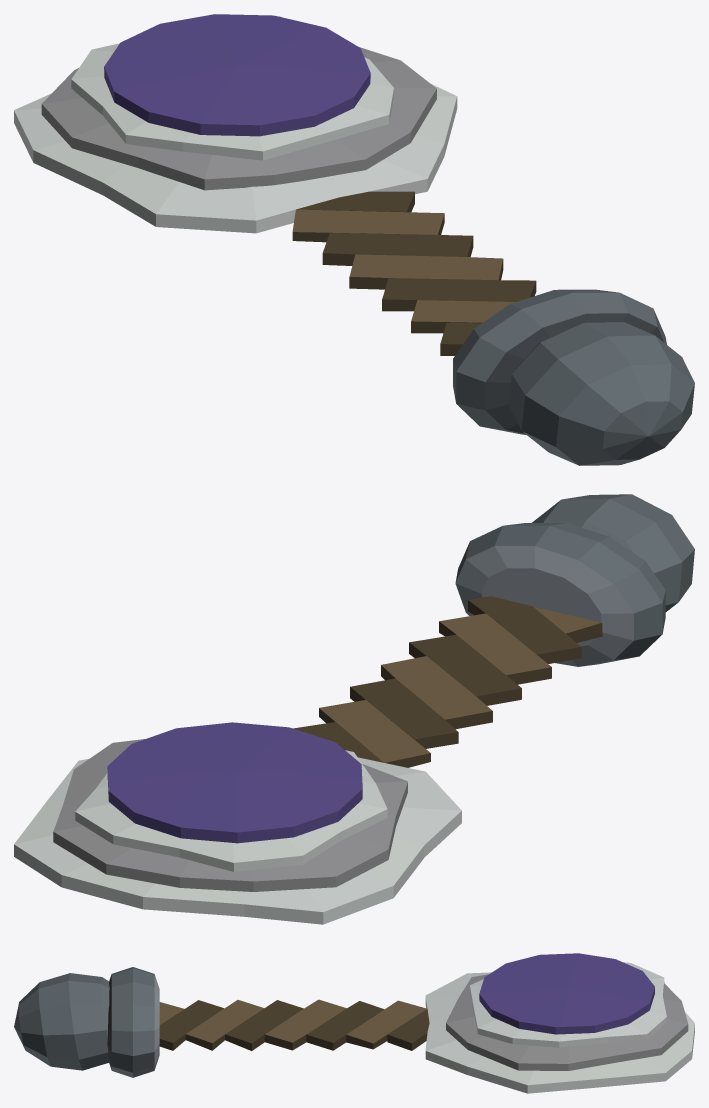
File: Item_Earring_07.fbx
The picture shows the model from 3 angles, top to bottom: view 1: azimuth 30°, elevation 25°; view 2: azimuth 150°, elevation 25°; view 3: azimuth 270°, elevation 25°; orthographic projection. The views are drawn at different scales.
Parts seen in each view (by area): view 1: Lera_Item_Ring_07; view 2: Lera_Item_Ring_07; view 3: Lera_Item_Ring_07.
Boxes of the visible parts, bbox=[...] form: Lera_Item_Ring_07: bbox=[14, 14, 694, 465]; Lera_Item_Ring_07: bbox=[14, 494, 694, 924]; Lera_Item_Ring_07: bbox=[14, 953, 694, 1093].
Size of the model in its own units: 280 by 95.49 by 669.
